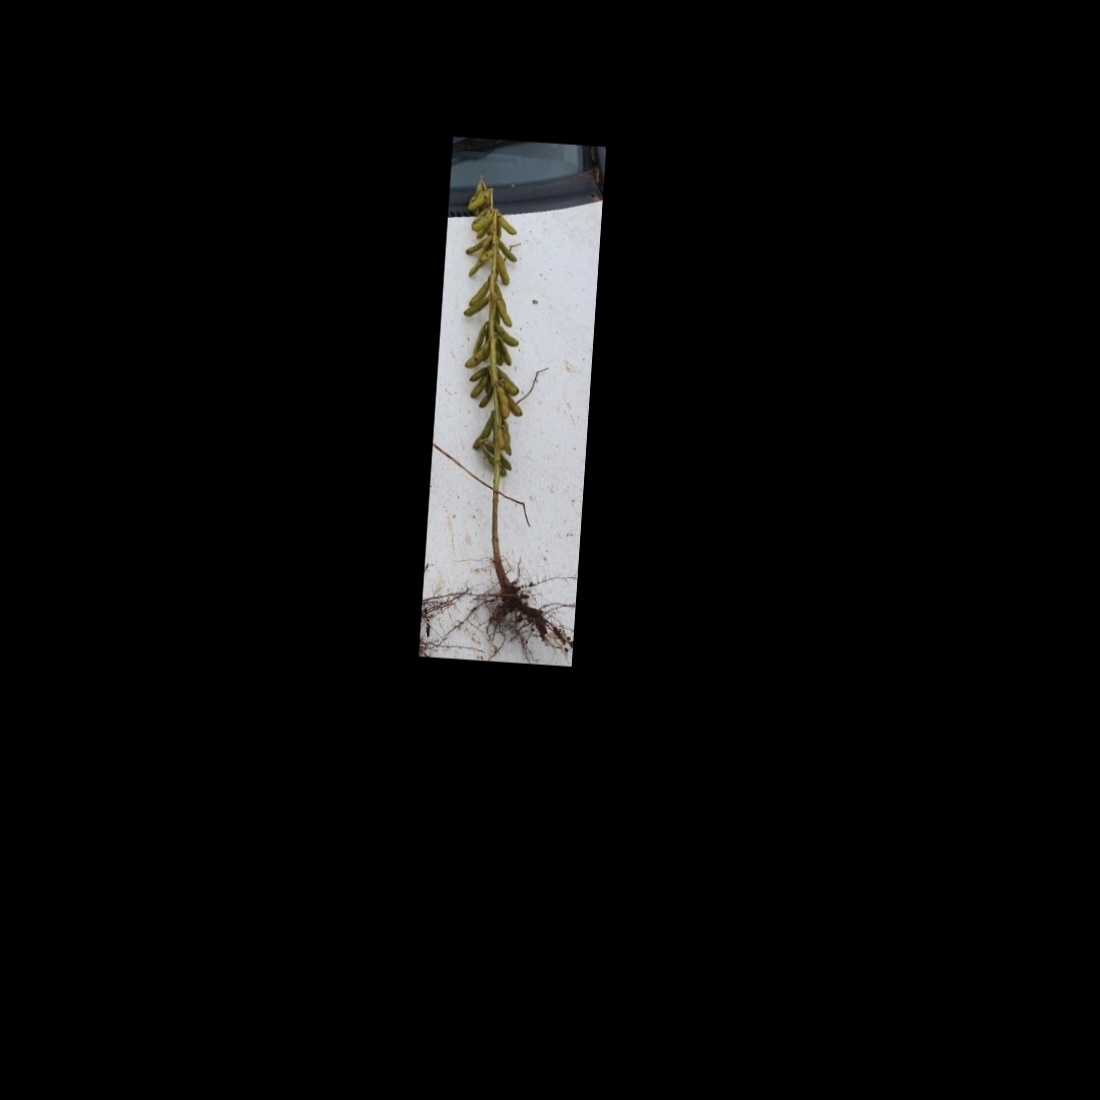pod: (470, 408, 493, 451), (492, 252, 512, 290), (492, 384, 510, 418), (496, 213, 521, 236), (494, 300, 514, 328), (477, 386, 495, 410)
soy: (423, 168, 582, 639)
